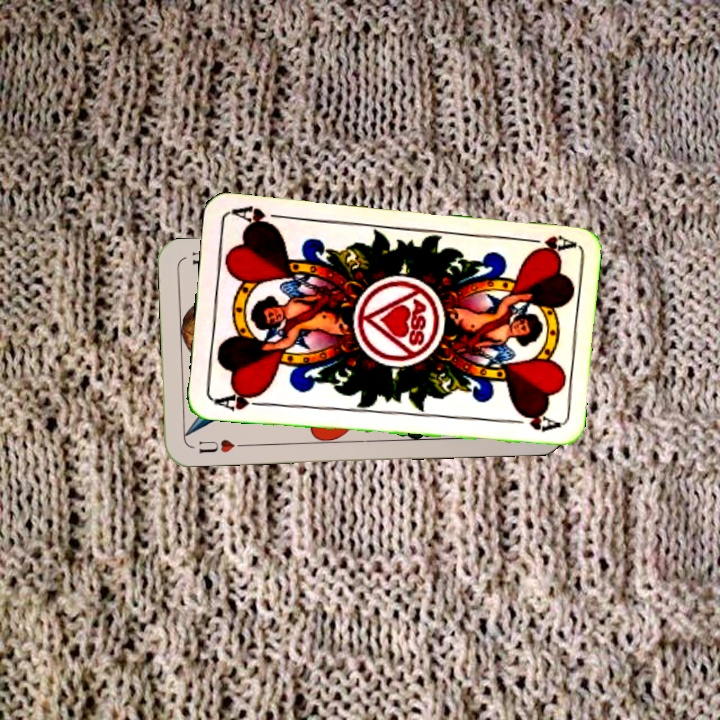HA: (210, 387, 269, 414), (517, 231, 576, 258)
HU: (194, 435, 248, 456)
